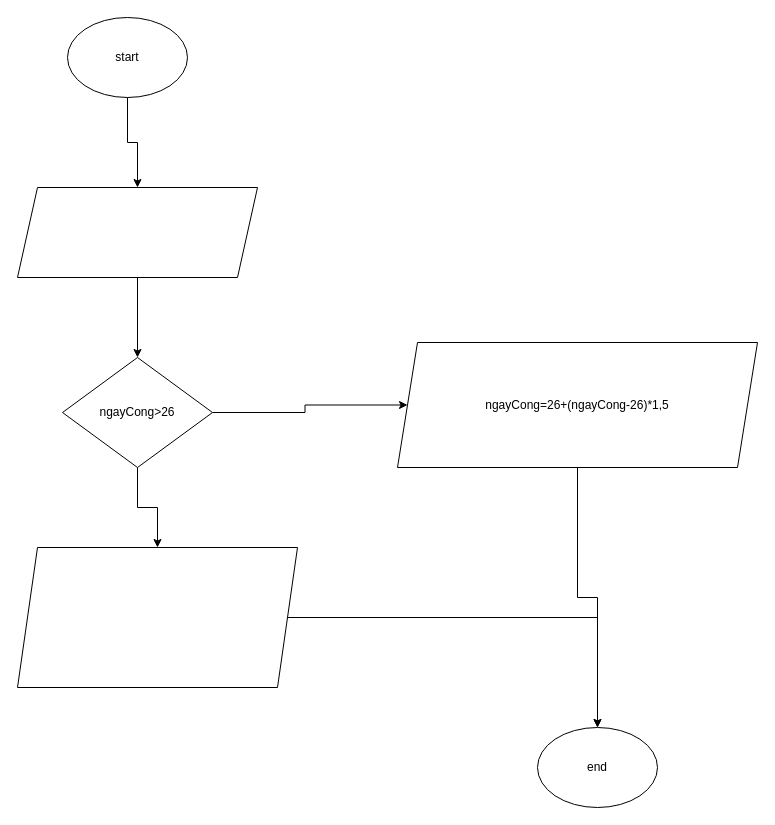
The diagram is 775 pixels wide and 825 high, and some of its shapes have lost their labels. Each missing label, with the box of its shape:
luong, ngayCong, tienLuong: (16, 186, 258, 278)
money=(workDays-26)*wages*150/100+ wages*26: (16, 546, 298, 688)
